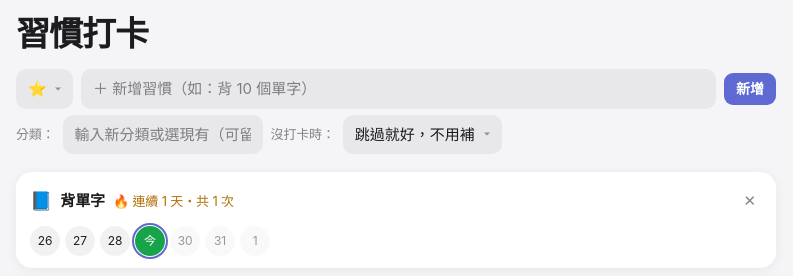
Test case: 習慣頁刪除習慣的確認／防重／寫入／刷新邊界 › 刪掉最後一個習慣但刷新失敗：顯示空狀態，重試刷新仍失敗時保留提示且不重送
Click the button "✕".
click(750, 201)  # box x1=737 y1=184 x2=762 y2=218
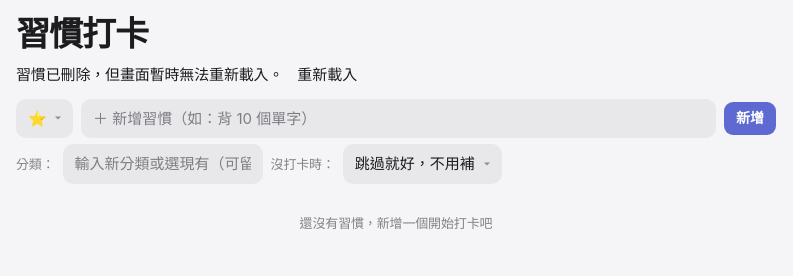
Check: the text "還沒有習慣，新增一個開始打卡吧" is shown, box x1=300 y1=215 x2=492 y2=231
Click the button "重新載入".
click(327, 75)  # box x1=291 y1=63 x2=363 y2=87
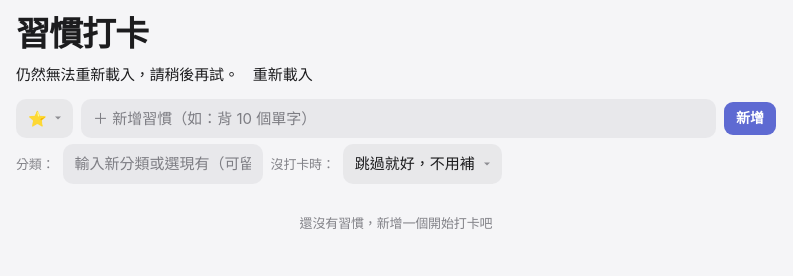
Check: the message shows "仍然無法重新載入，請稍後再試。", box x1=16 y1=65 x2=239 y2=84
